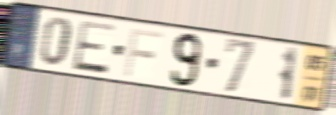0: (37, 15, 73, 68)
1: (280, 45, 301, 104)
7: (223, 35, 257, 97)
9: (168, 31, 206, 90)
E: (70, 18, 118, 77)
F: (122, 26, 165, 79)
